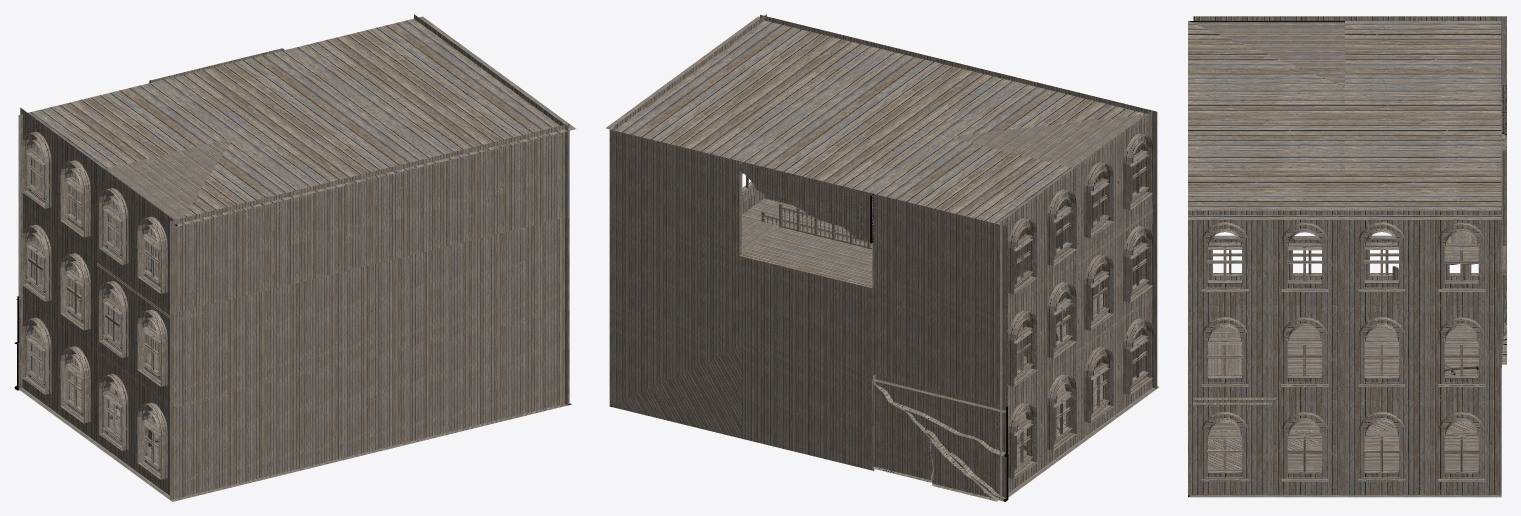
Rendered from hus_Export.obj.
3 views of the same model, side by side, from view 1: azimuth 30°, elevation 25°; view 2: azimuth 150°, elevation 25°; view 3: azimuth 270°, elevation 25° (orthographic). The views are drawn at different scales.
Visible parts, largest first — view 1: polySurface3; view 2: polySurface3; view 3: polySurface3.
Part boxes in pixels (box(x1,y1,x2,y2)): polySurface3: box(14, 14, 575, 501); polySurface3: box(606, 14, 1158, 501); polySurface3: box(1188, 16, 1506, 497).
Bounding box in the file's own units: 91.58 × 61 × 61.
